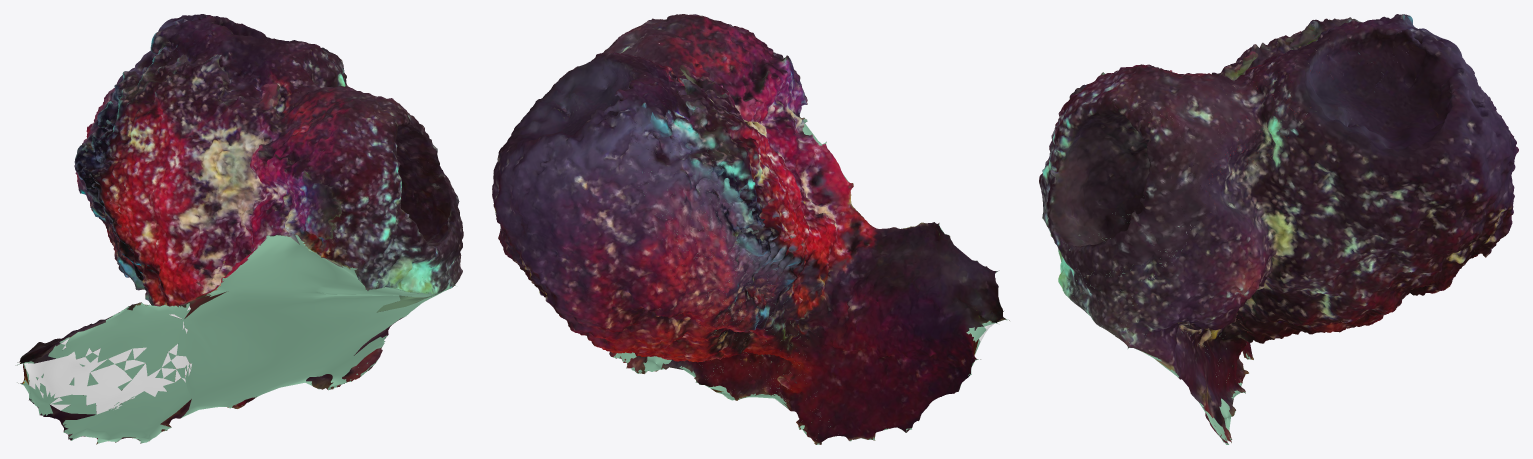
Rendered from coral3.glb.
The picture shows the model from 3 angles, left to right: view 1: azimuth 30°, elevation 25°; view 2: azimuth 150°, elevation 25°; view 3: azimuth 270°, elevation 25°; orthographic projection. The views are drawn at different scales.
Parts seen in each view (by area): view 1: Object_5, Object_3, Object_4, Object_2, Object_6; view 2: Object_5, Object_4, Object_6, Object_3; view 3: Object_4, Object_5, Object_6, Object_3.
Part boxes in pixels (x1=…): Object_5: x1=17, y1=15, x2=462, y2=444; Object_3: x1=17, y1=235, x2=455, y2=443; Object_4: x1=74, y1=14, x2=463, y2=408; Object_2: x1=24, y1=306, x2=191, y2=414; Object_6: x1=77, y1=28, x2=459, y2=441; Object_5: x1=566, y1=14, x2=1009, y2=444; Object_4: x1=492, y1=17, x2=818, y2=400; Object_6: x1=614, y1=25, x2=848, y2=440; Object_3: x1=613, y1=118, x2=1007, y2=444; Object_4: x1=1063, y1=28, x2=1518, y2=443; Object_5: x1=1039, y1=14, x2=1441, y2=391; Object_6: x1=1060, y1=16, x2=1403, y2=354; Object_3: x1=1058, y1=213, x2=1250, y2=444.
Size of the model in its own units: 0.2785 by 0.2236 by 0.2424.
2 materials, 1 textured.
